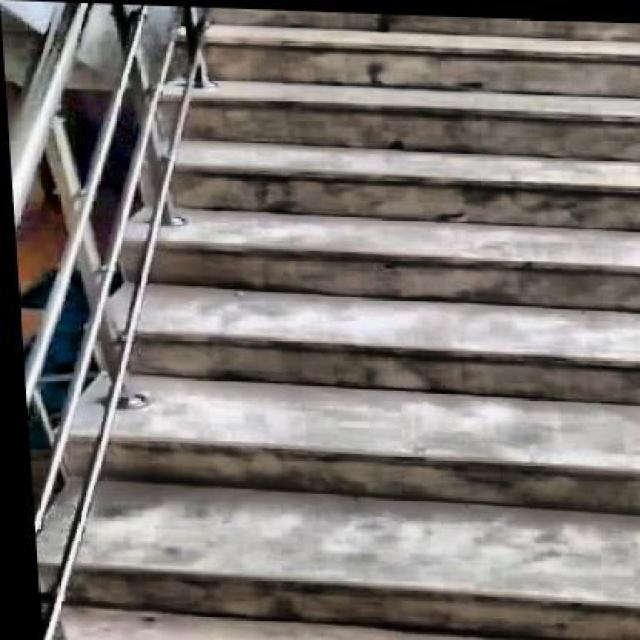stair: (81, 1, 638, 638)
